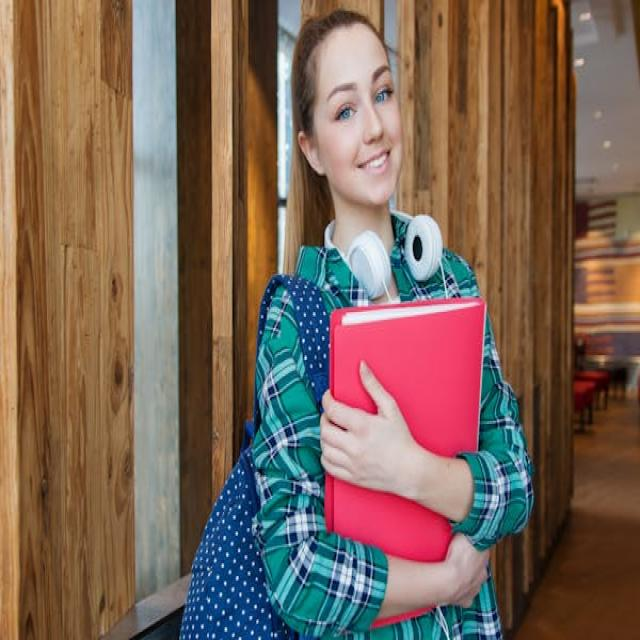Real human 2: (251, 6, 534, 640)
